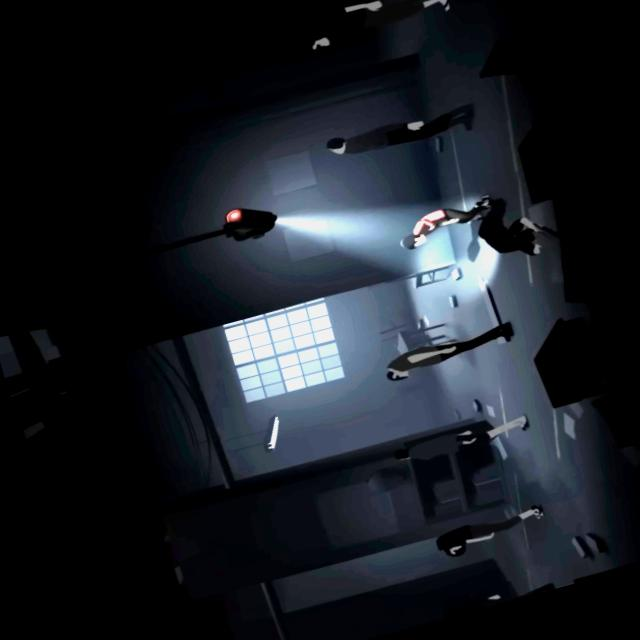boy: (394, 194, 498, 252)
zombie: (324, 100, 478, 166), (300, 0, 459, 54), (381, 320, 518, 382), (392, 412, 530, 466), (468, 181, 548, 267), (433, 502, 549, 560), (438, 577, 556, 619)
